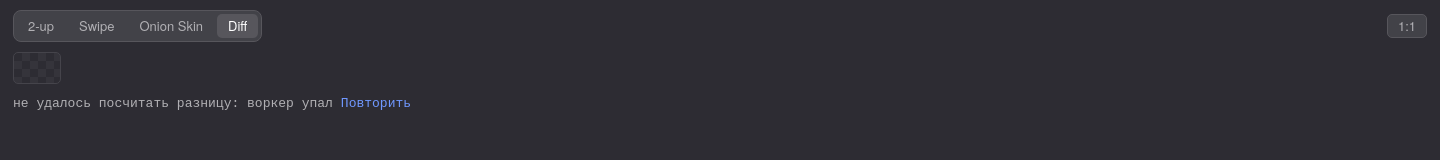
Test: карточка-картинка › провал счёта показывает причину, «Повторить» считает заново
Click the button with class "image-card__retry".
click(376, 104)  # box 341,94 -> 411,114
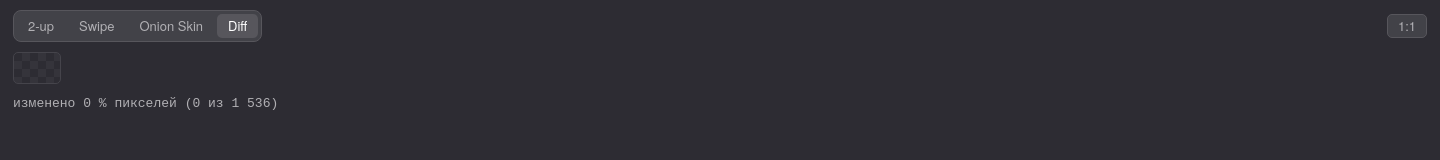
Expected: the text "изменено 0 % пикселей" is shown, 13,96 -> 278,111
